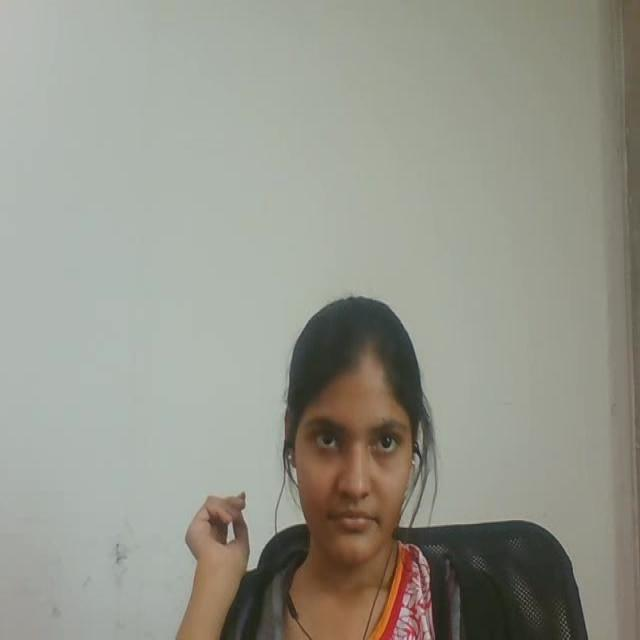Engaged: (269, 284, 438, 581)
